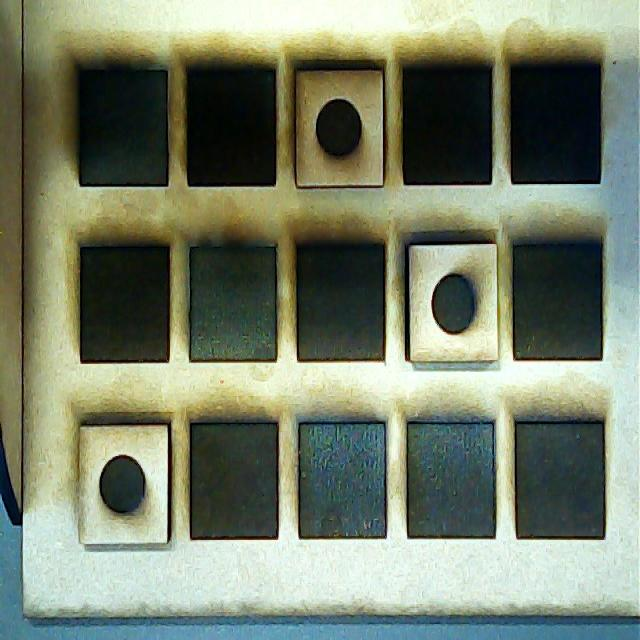circle: (77, 418, 175, 546), (406, 235, 501, 366), (292, 61, 387, 186)
